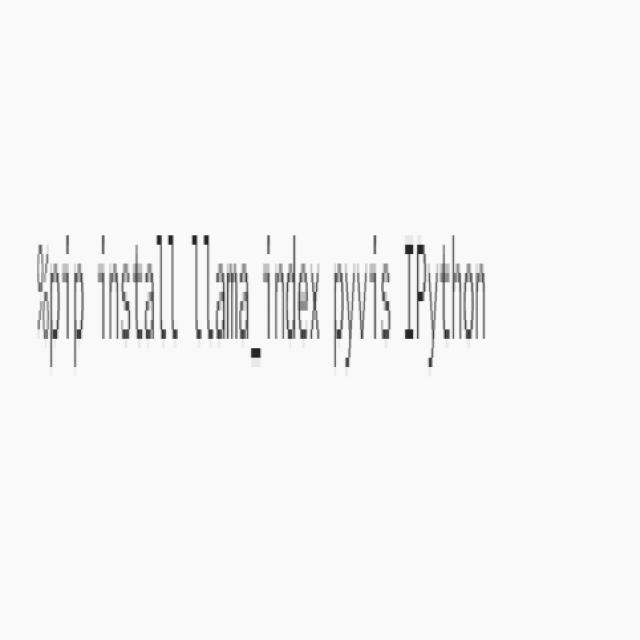word: (187, 201, 323, 425), (96, 188, 181, 419), (404, 202, 492, 403), (329, 214, 397, 406), (31, 172, 86, 402)
